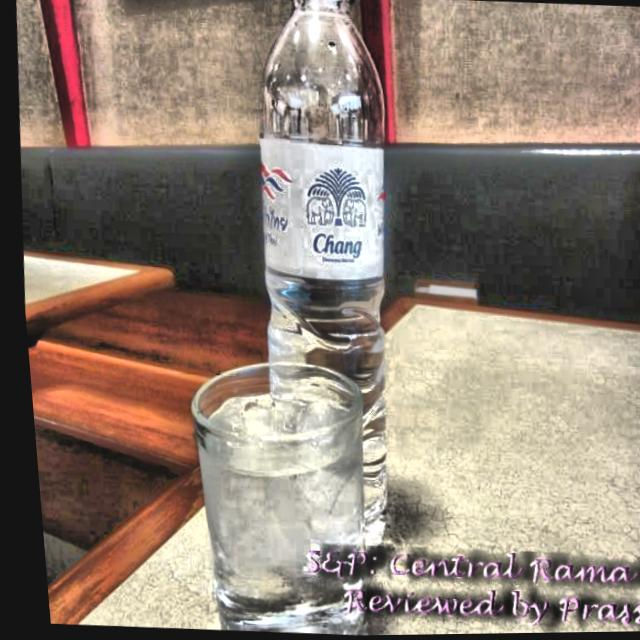Bottles: (204, 0, 447, 573)
